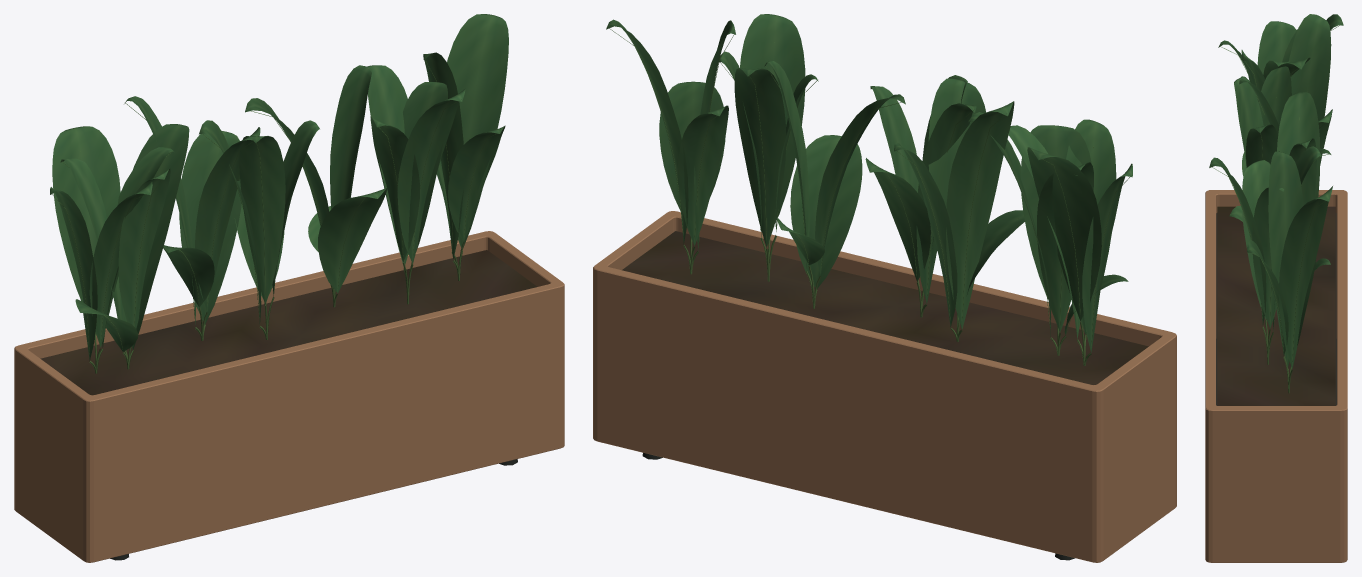
File: separator-3.glb
3 views of the same model, side by side, from view 1: azimuth 30°, elevation 25°; view 2: azimuth 150°, elevation 25°; view 3: azimuth 270°, elevation 25° (orthographic). The views are drawn at different scales.
Parts seen in each view (by area): view 1: Planter_oiled_oak, Planter_foliage, Planter_loose_soil, Planter_leaf_veins, Planter_petioles; view 2: Planter_oiled_oak, Planter_foliage, Planter_loose_soil, Planter_leaf_veins, Planter_petioles; view 3: Planter_oiled_oak, Planter_foliage, Planter_loose_soil, Planter_inner_liner, Planter_leaf_veins, Planter_petioles.
Boxes of the visible parts, <box> form: Planter_oiled_oak: <box>14,231,564,562</box>; Planter_foliage: <box>50,14,508,360</box>; Planter_loose_soil: <box>40,250,536,395</box>; Planter_leaf_veins: <box>52,58,496,353</box>; Planter_petioles: <box>89,242,464,373</box>; Planter_oiled_oak: <box>593,211,1176,562</box>; Planter_foliage: <box>606,14,1132,352</box>; Planter_loose_soil: <box>622,231,1148,384</box>; Planter_leaf_veins: <box>609,28,1129,345</box>; Planter_petioles: <box>683,235,1091,365</box>; Planter_oiled_oak: <box>1205,190,1347,562</box>; Planter_foliage: <box>1209,14,1343,368</box>; Planter_loose_soil: <box>1217,206,1335,405</box>; Planter_inner_liner: <box>1216,213,1336,405</box>; Planter_leaf_veins: <box>1212,25,1339,361</box>; Planter_petioles: <box>1262,320,1292,393</box>.
Size of the model in its own units: 1.1 by 0.9 by 0.3.
